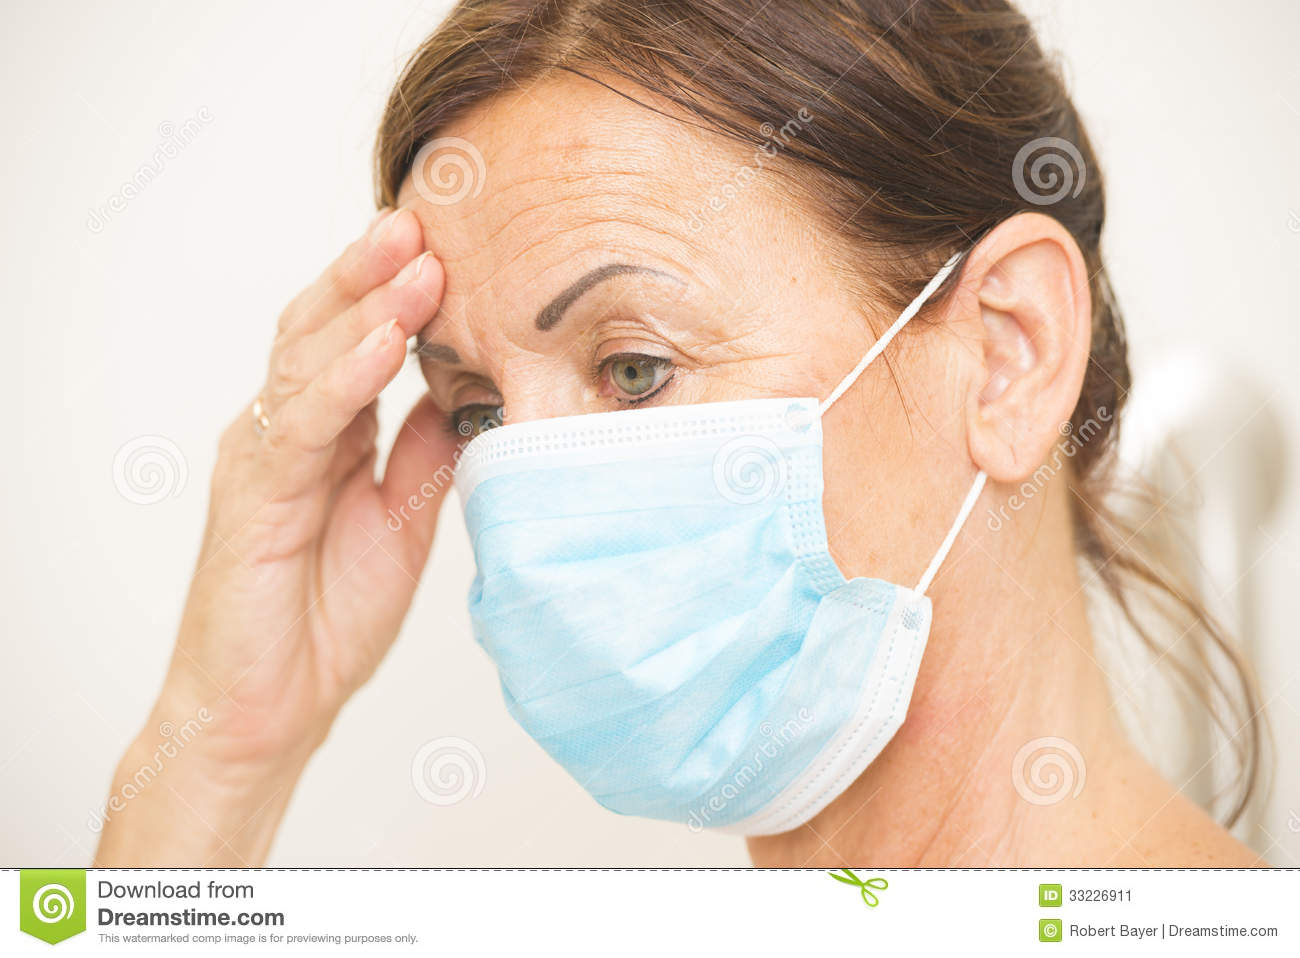mask: (411, 418, 958, 820)
